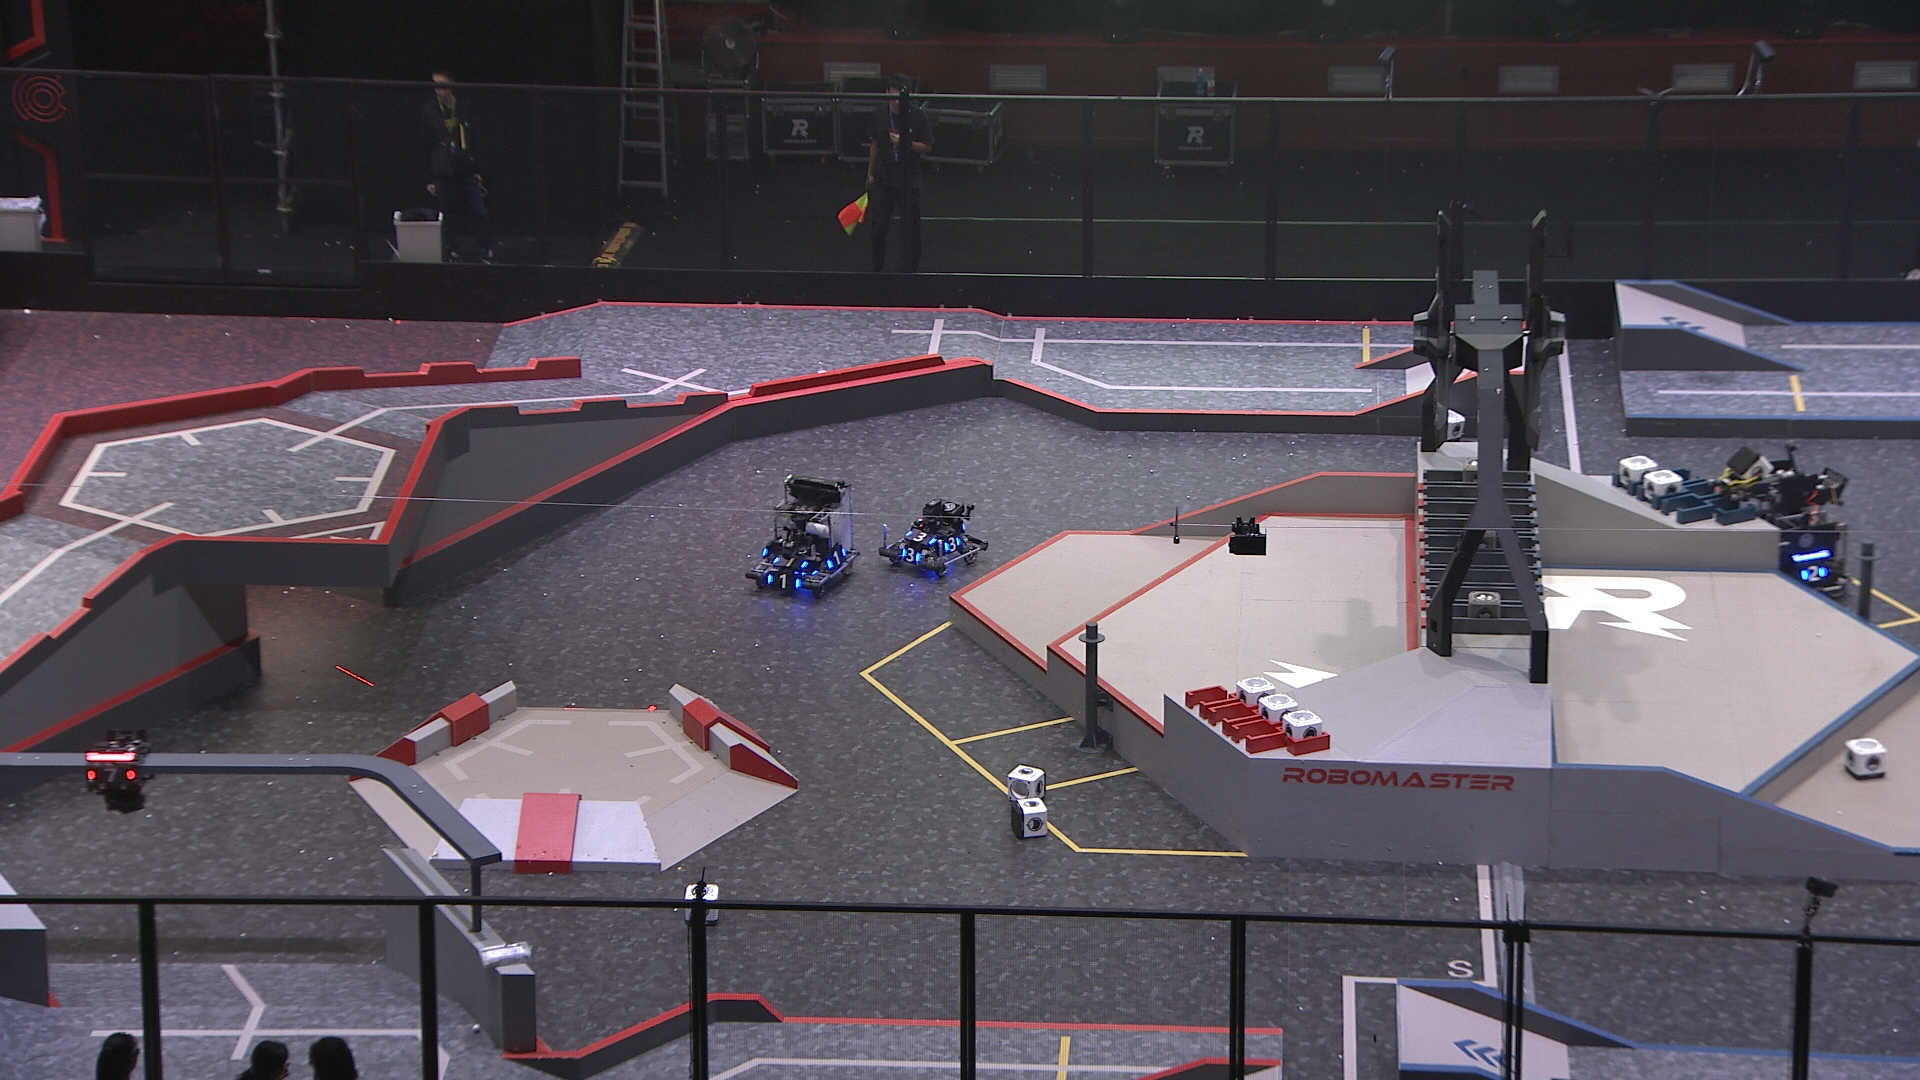armor: (82, 764, 138, 785), (764, 570, 804, 593), (770, 553, 806, 575), (1801, 564, 1832, 585), (903, 527, 940, 545), (825, 546, 849, 572), (940, 531, 965, 555), (899, 547, 923, 564)
car: (1714, 458, 1849, 603), (744, 472, 862, 593), (878, 491, 984, 582)
watcher: (76, 727, 153, 814)
